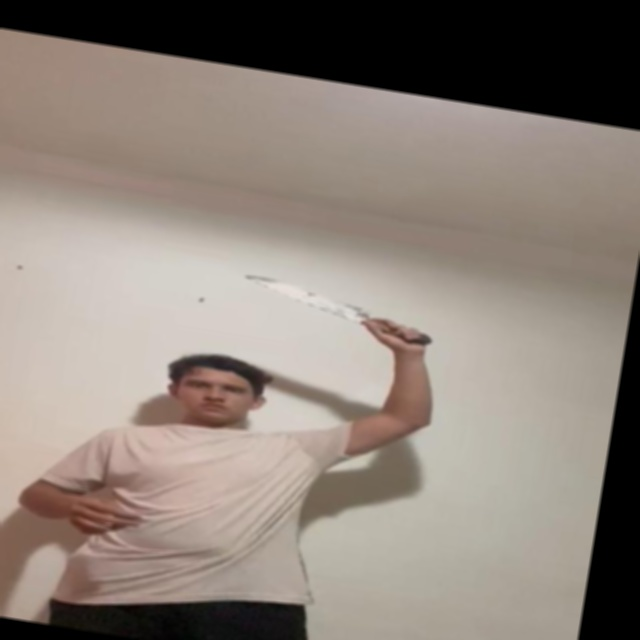Sharp-Object: (243, 273, 368, 319)
